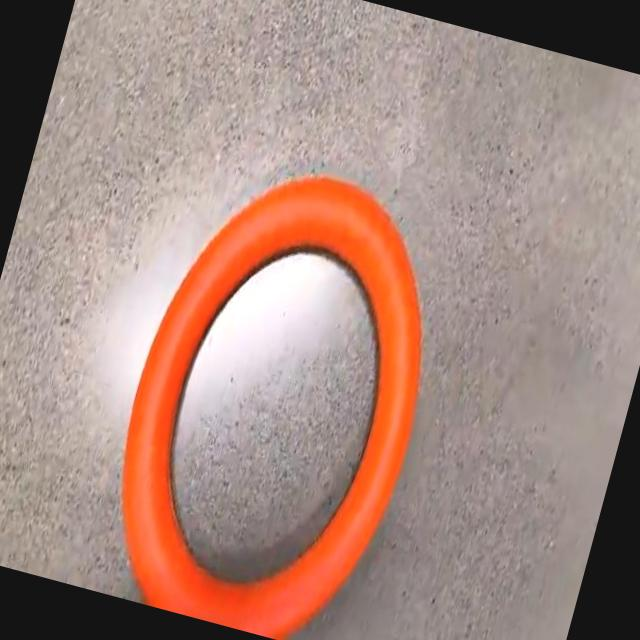note: (122, 176, 420, 638)
